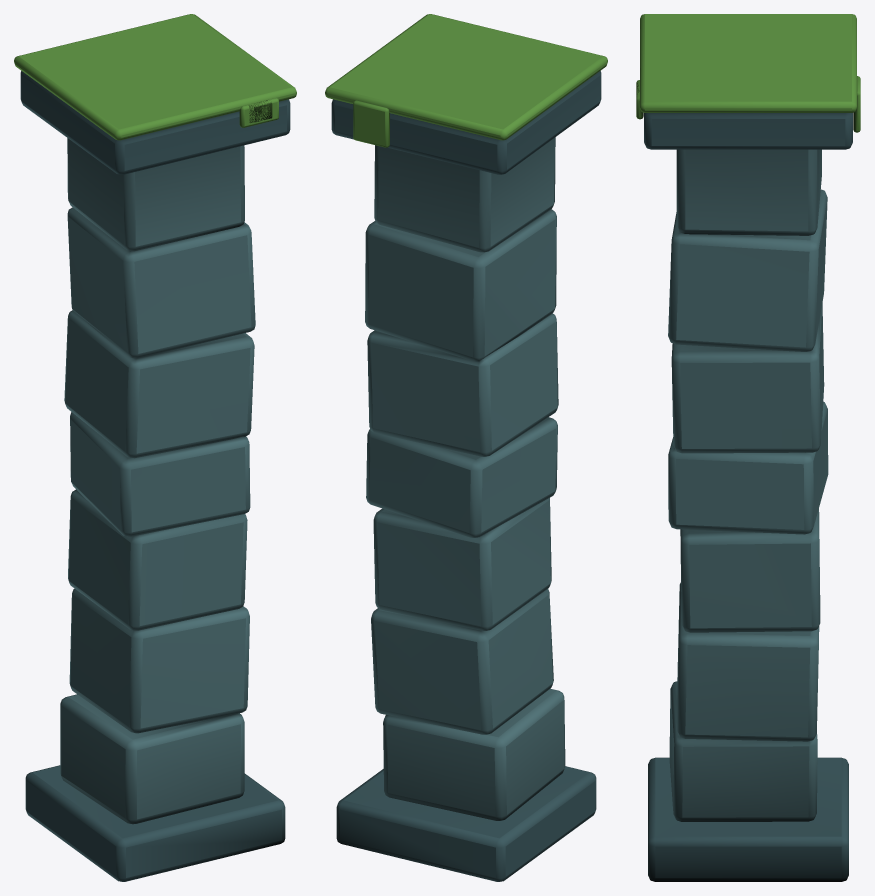
File: ruin_pillar_a.glb
The picture shows the model from 3 angles, left to right: view 1: azimuth 30°, elevation 25°; view 2: azimuth 150°, elevation 25°; view 3: azimuth 270°, elevation 25°; orthographic projection. The views are drawn at different scales.
Parts seen in each view (by area): view 1: ruin_pillar_a_mesh; view 2: ruin_pillar_a_mesh; view 3: ruin_pillar_a_mesh.
Part boxes in pixels (x1,y1,x2,y2): ruin_pillar_a_mesh: [14, 14, 296, 881]; ruin_pillar_a_mesh: [325, 14, 607, 881]; ruin_pillar_a_mesh: [636, 14, 860, 881].
Bounding box in the file's own units: 1.75 × 6.97 × 1.81.
